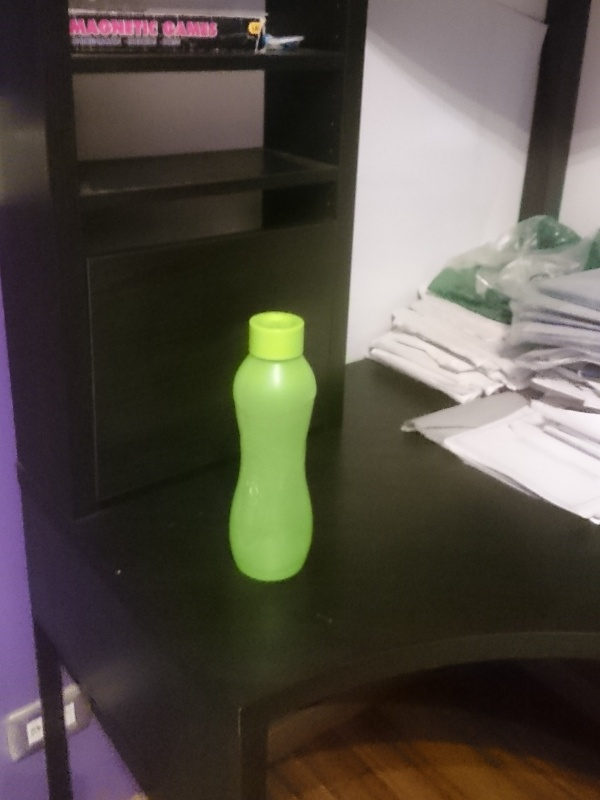my bottle: (224, 311, 316, 582)
